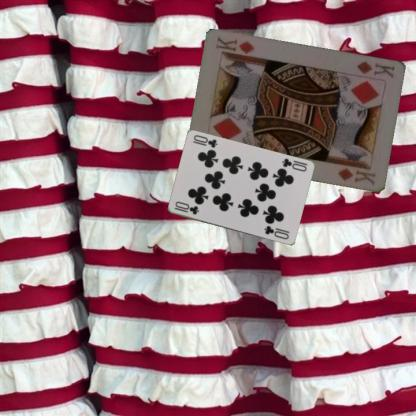10c: (172, 199, 200, 216), (279, 156, 307, 173)
Kd: (354, 58, 397, 80)
